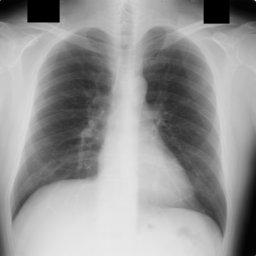left lobe: (143, 28, 227, 232)
right lobe: (15, 30, 113, 218)
